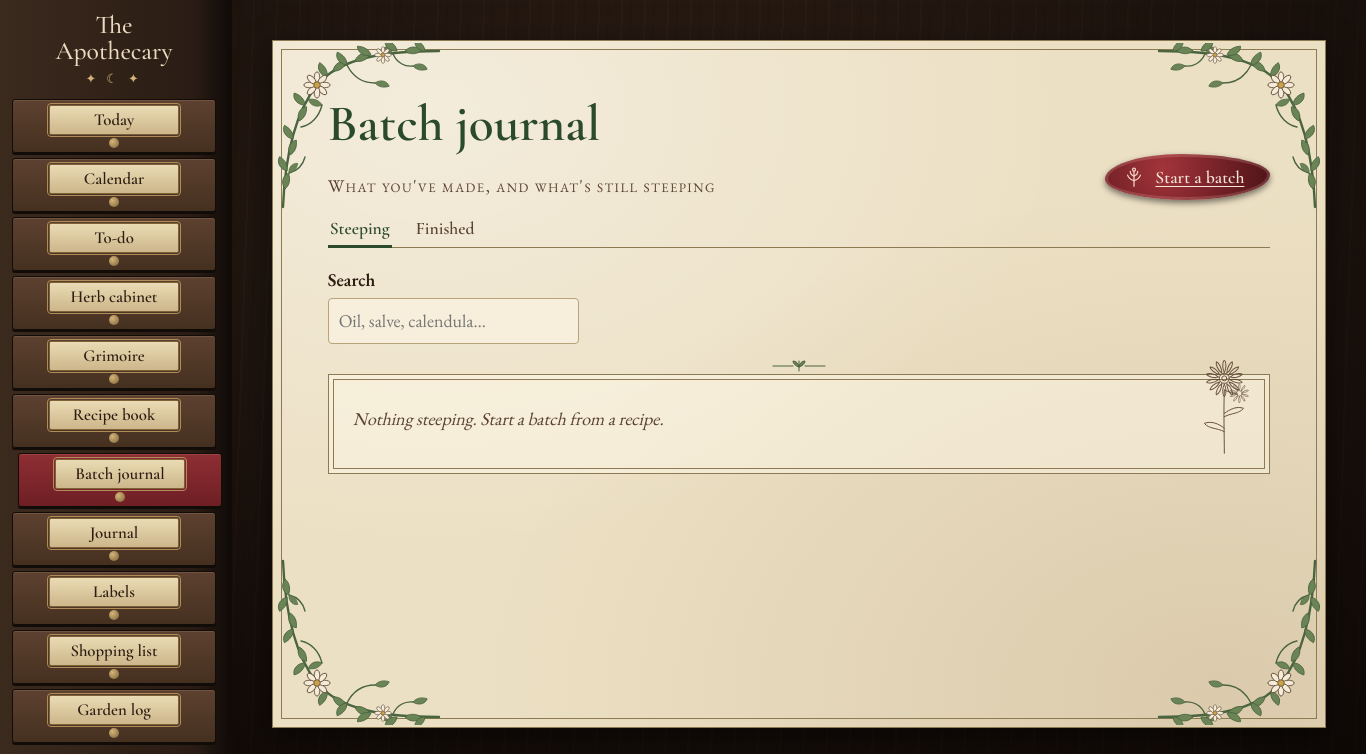
Test: shows the empty states
This screenshot has width=1366, height=754.
Expected: the text "Nothing steeping. Start a batch from a recipe." is shown, [353,407,664,430]
Click the link "Finished" at (445, 229), box [416,218,474,239]
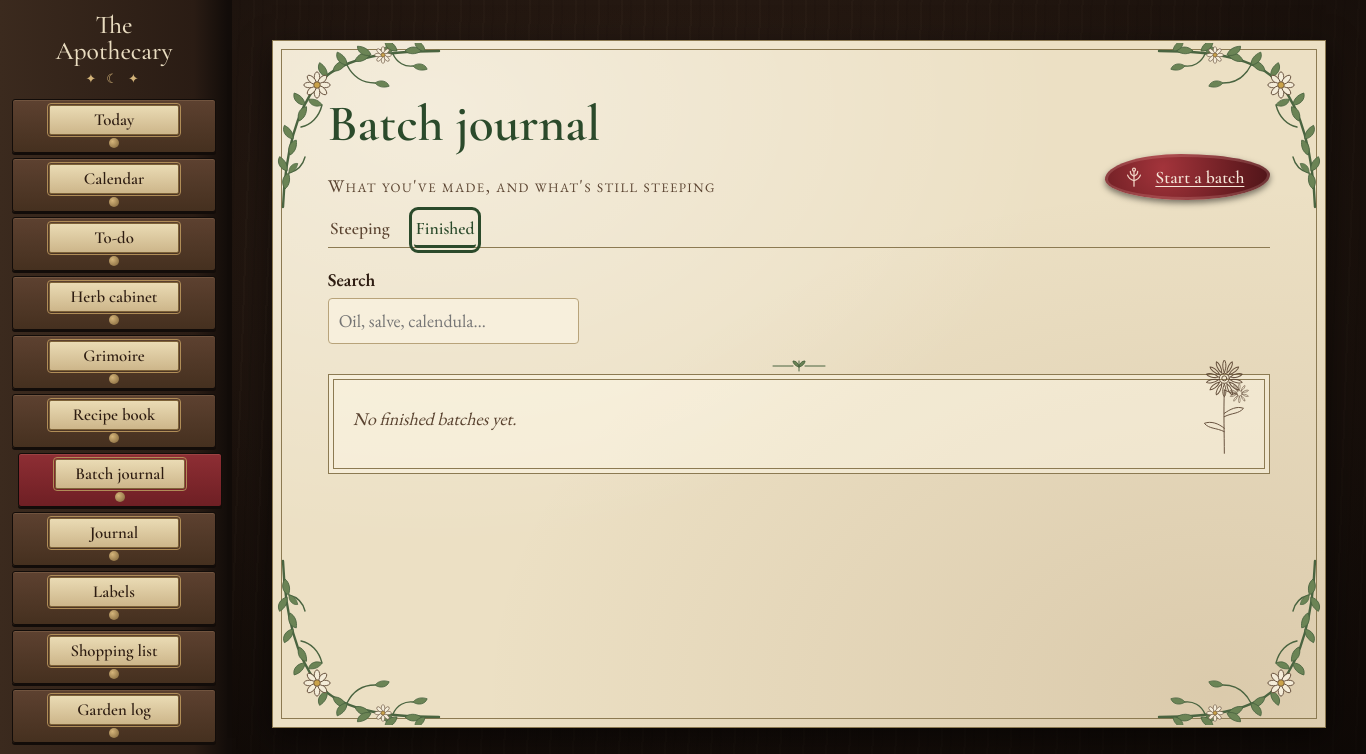
Expected: the text "No finished batches yet." is shown, [353,407,516,430]
